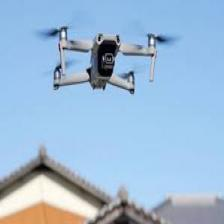drone: (36, 20, 173, 100)
